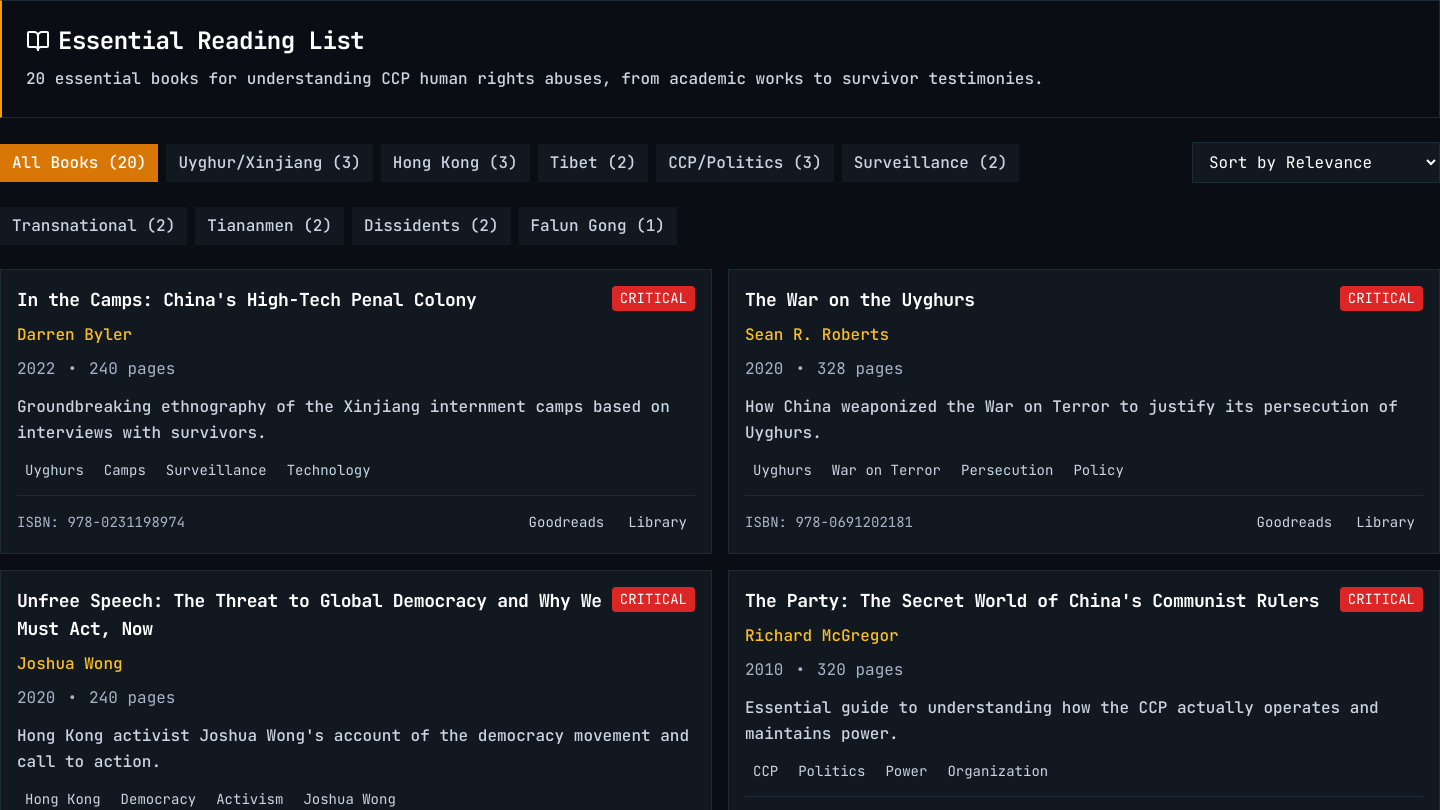
Test: ReadingList › returns to all books when All Books is clicked
Click the button "Uyghur/Xinjiang (3)" at [270, 162], box [166,144,373,182]
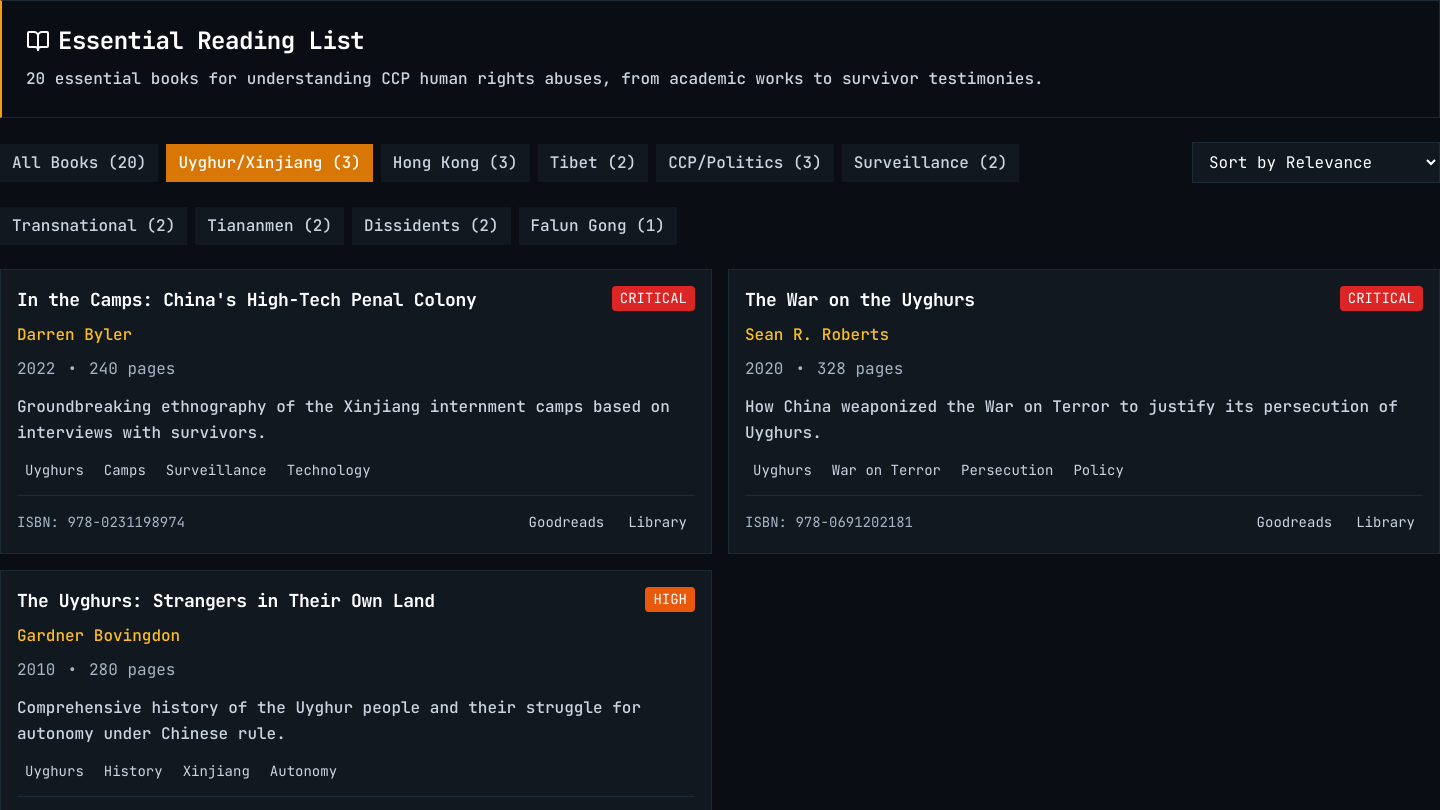
Expected: the heading "Unfree Speech" is gone
Click the button "All Books (20)" at [79, 162], box [0,144,158,182]
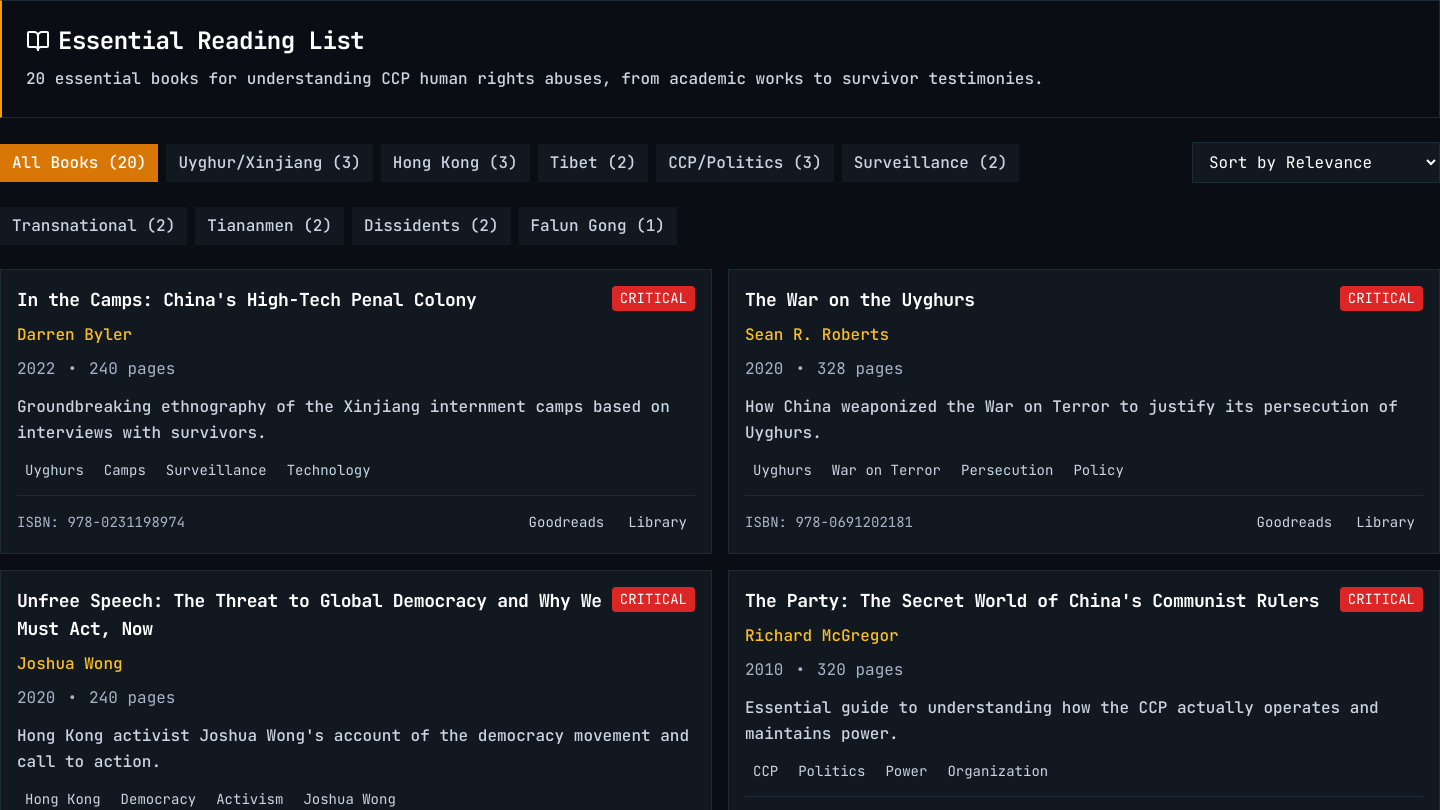
Expected: the heading "Unfree Speech" is shown, [17,589,602,640]
